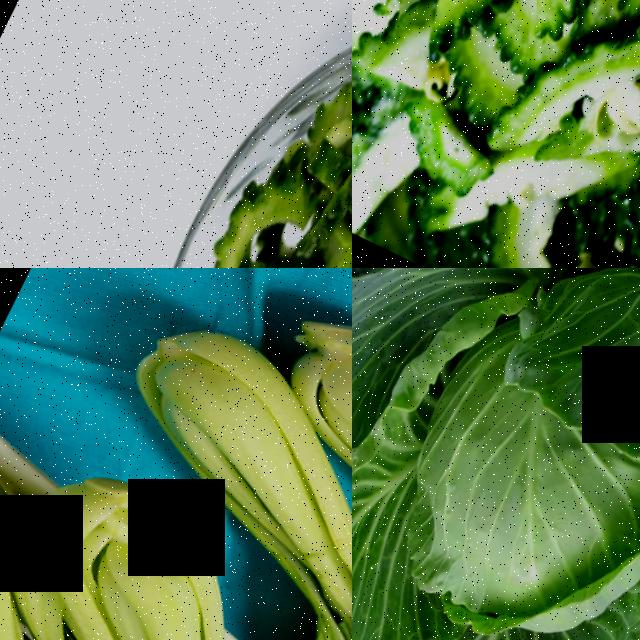bok choy: (0, 268, 352, 588), (0, 458, 352, 640), (234, 285, 352, 591), (0, 480, 34, 640)
cabbage: (352, 268, 640, 640)
